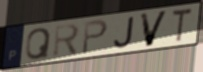J: (112, 15, 137, 50)
P: (81, 18, 110, 56)
Q: (24, 26, 52, 62)
R: (52, 22, 82, 60)
T: (171, 6, 194, 44)
V: (138, 9, 170, 49)
